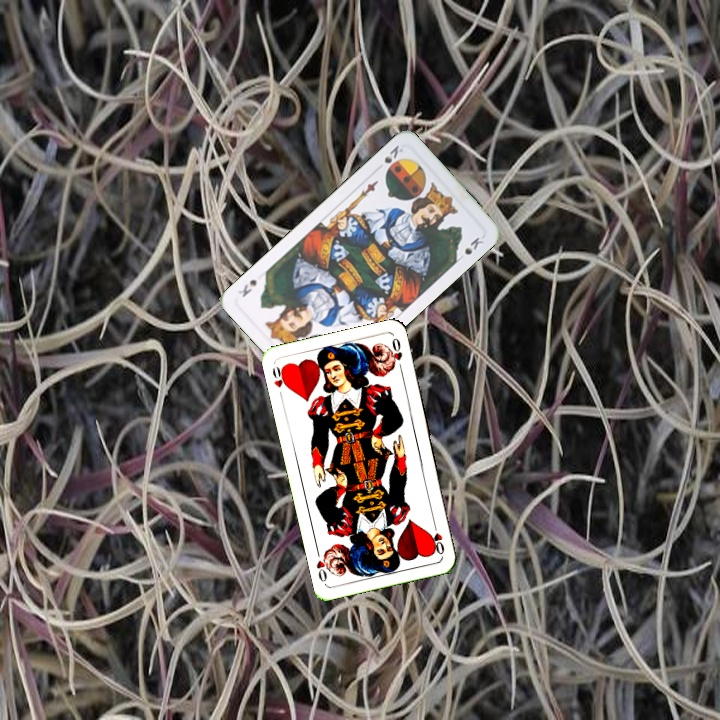HO: (268, 362, 291, 401), (429, 518, 447, 557)
SK: (380, 141, 406, 174)
